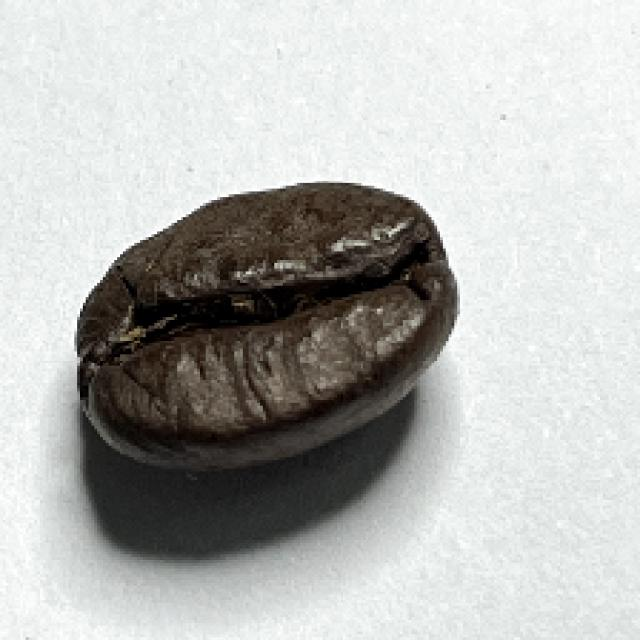bean: (70, 183, 458, 473)
